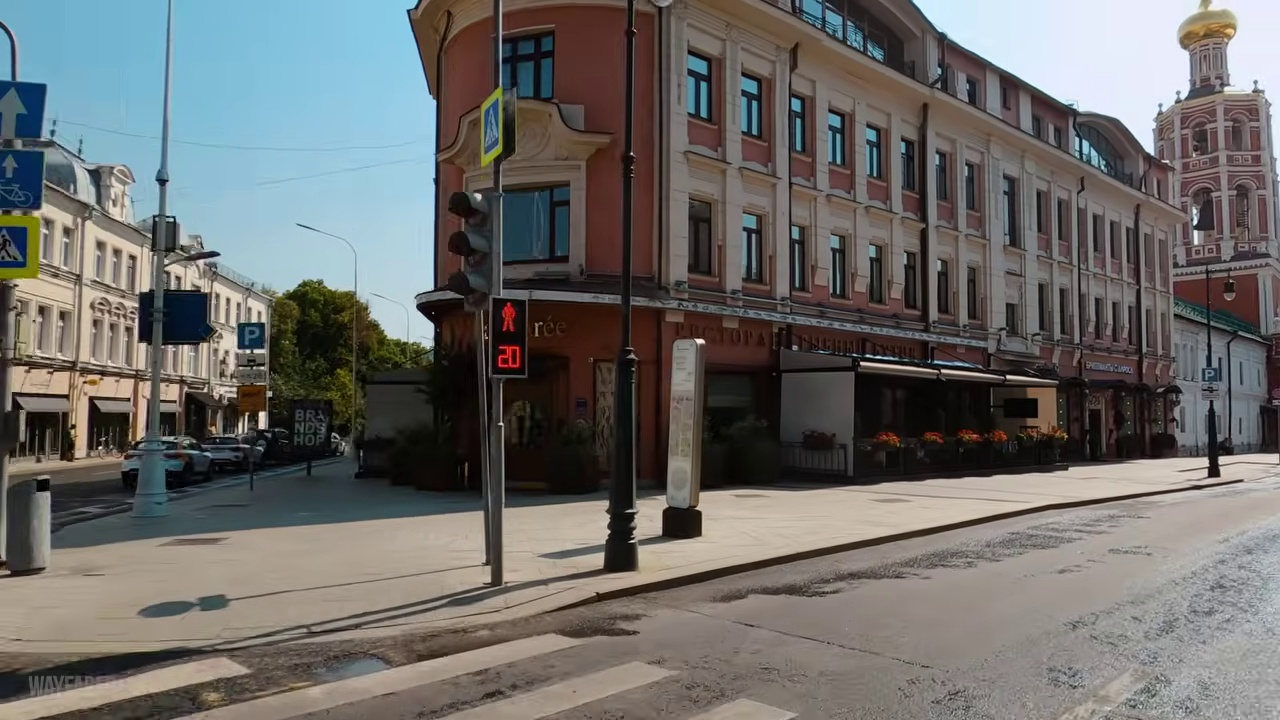apagada: (292, 218, 318, 237)
